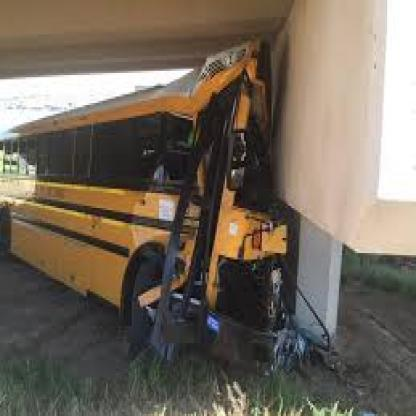accident: (49, 34, 384, 396)
